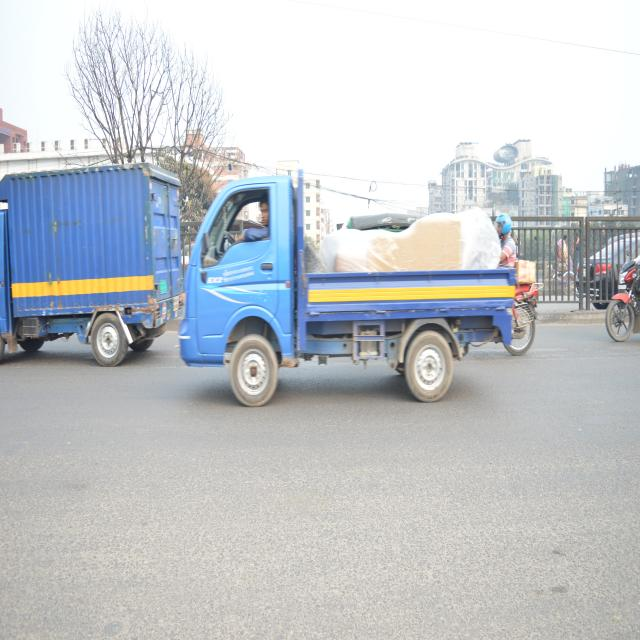motorbike: (611, 254, 640, 340), (514, 280, 540, 355)
pickup-van: (178, 168, 514, 406), (0, 166, 182, 364)
